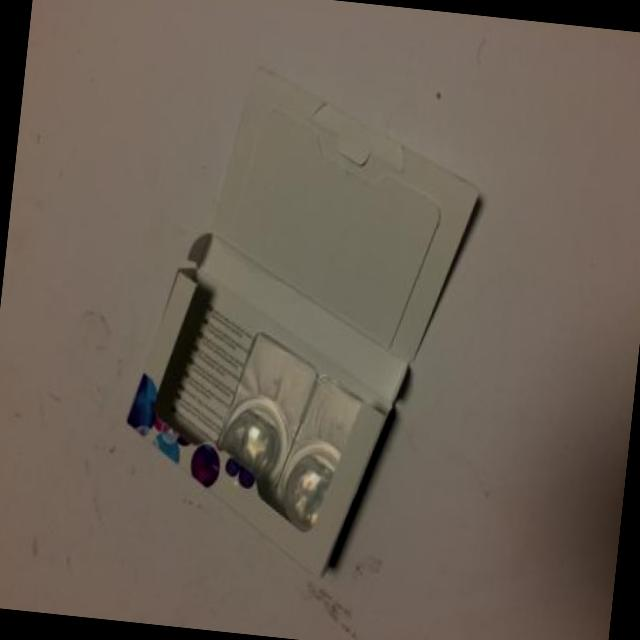Trash: (111, 53, 492, 594)
